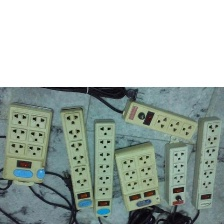three_eye_plug: (0, 99, 56, 188), (56, 102, 98, 212), (112, 138, 164, 214), (120, 96, 201, 141), (87, 116, 118, 219), (190, 115, 223, 210), (161, 139, 190, 209)
